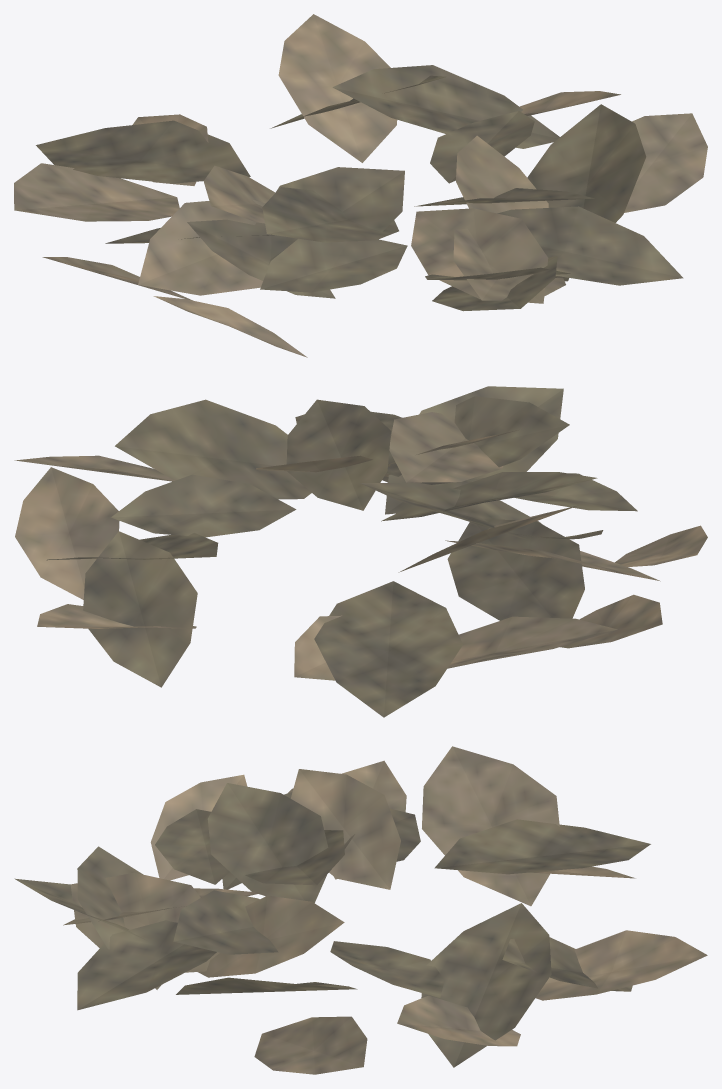
The model's file is leaf_heap_01.glb.
3 renders of one model, top to bottom at view 1: azimuth 30°, elevation 25°; view 2: azimuth 150°, elevation 25°; view 3: azimuth 270°, elevation 25°, orthographic. The views are drawn at different scales.
Parts seen in each view (by area): view 1: leaf_heap_01; view 2: leaf_heap_01; view 3: leaf_heap_01.
Boxes of the visible parts, x1,y1,x2,y2 form: leaf_heap_01: (14, 14, 707, 357); leaf_heap_01: (14, 386, 707, 717); leaf_heap_01: (14, 746, 707, 1074).
Bounding box in the file's own units: 0.8581 × 0.1467 × 0.834.
1 material, 1 textured.
